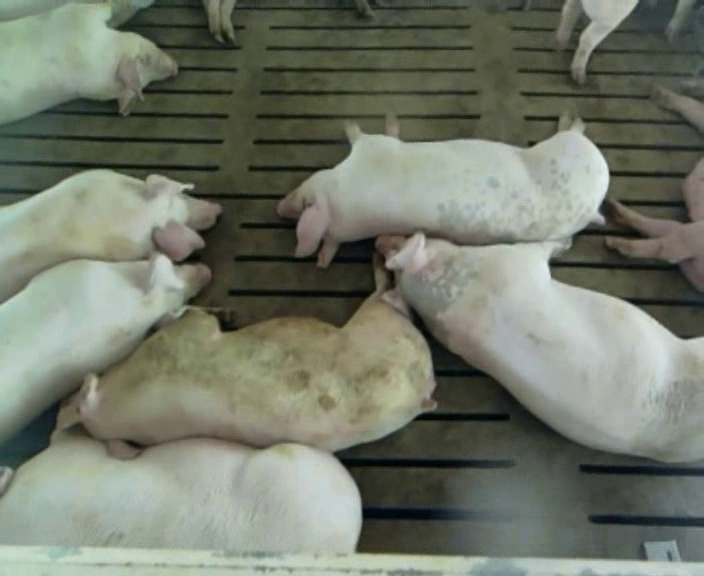pig: (58, 254, 431, 456), (376, 233, 703, 461), (278, 111, 608, 266), (0, 253, 208, 443), (0, 170, 220, 302)
